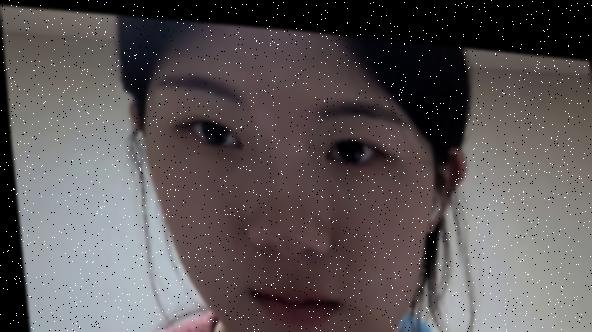eye: (198, 112, 228, 142), (333, 127, 363, 155)
iris: (320, 130, 380, 162), (185, 114, 240, 147)
